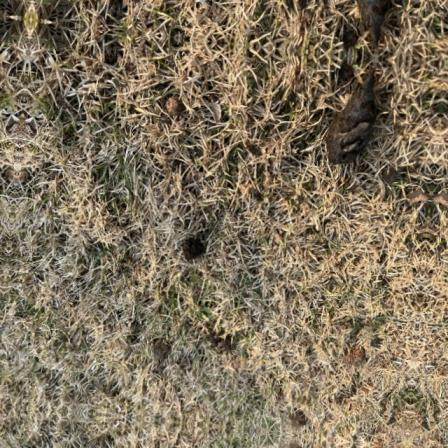dog-poop: (324, 65, 385, 169), (362, 0, 391, 49), (176, 232, 206, 261)
